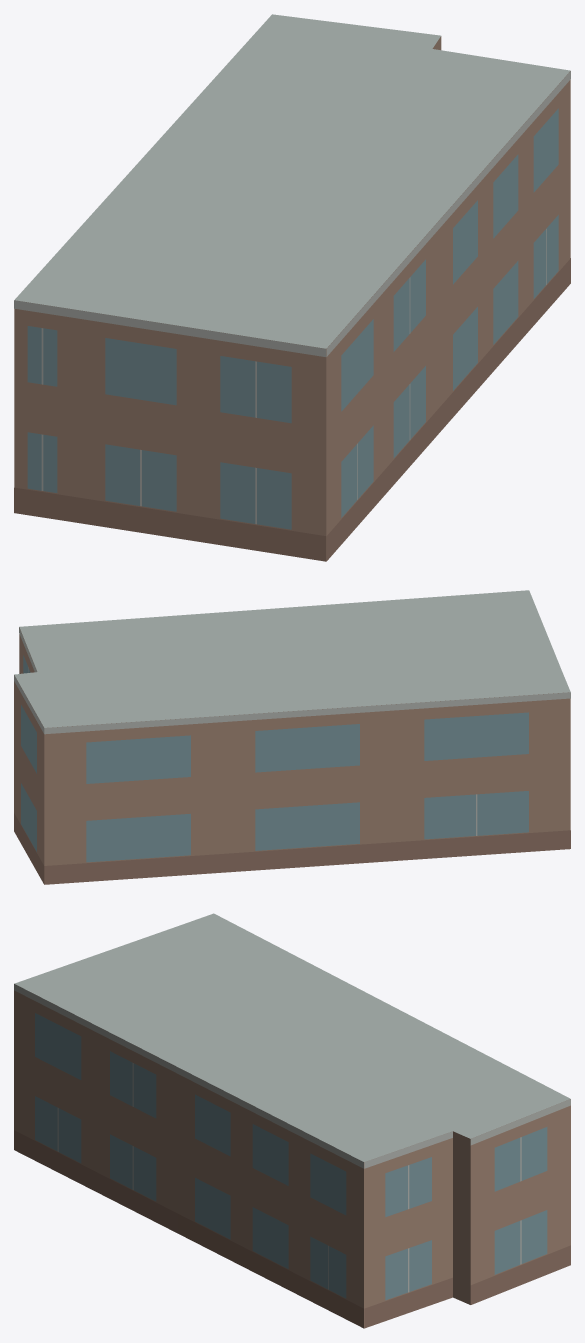
The model's file is survey-upis-32643457.glb.
3 renders of one model, top to bottom at view 1: azimuth 30°, elevation 25°; view 2: azimuth 150°, elevation 25°; view 3: azimuth 270°, elevation 25°, orthographic. The views are drawn at different scales.
Visible parts, largest first — view 1: survey-upis-32643457.tmp; view 2: survey-upis-32643457.tmp; view 3: survey-upis-32643457.tmp.
Part boxes in pixels (<box>): survey-upis-32643457.tmp: <box>14,14,570,561</box>; survey-upis-32643457.tmp: <box>14,590,570,884</box>; survey-upis-32643457.tmp: <box>14,913,570,1328</box>.
Size of the model in its own units: 19.59 by 6.1 by 18.52.
